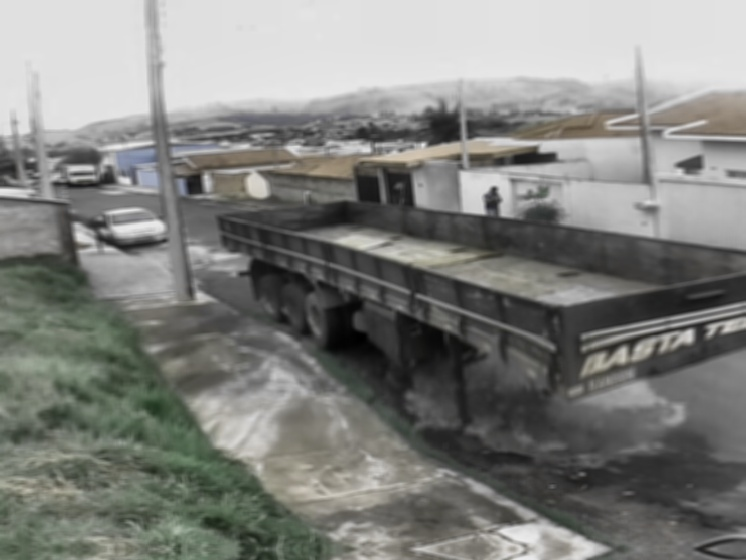person: (647, 455, 728, 560), (481, 185, 504, 217)
